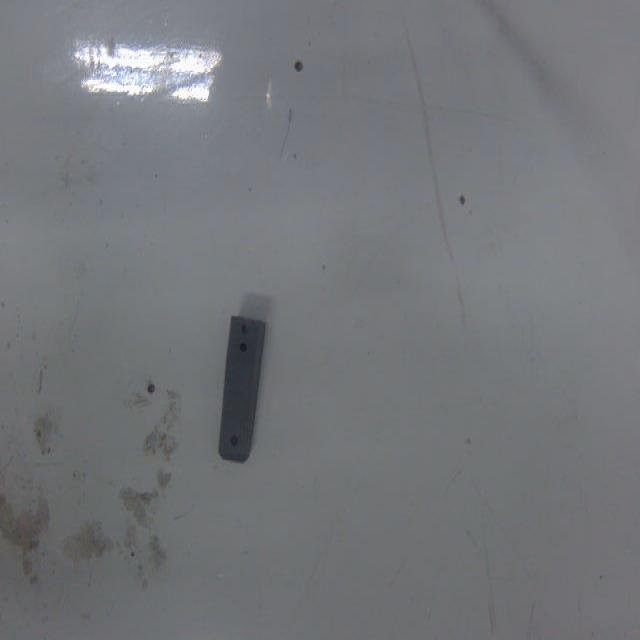grey: (217, 314, 265, 462)
head: (229, 434, 240, 448)
